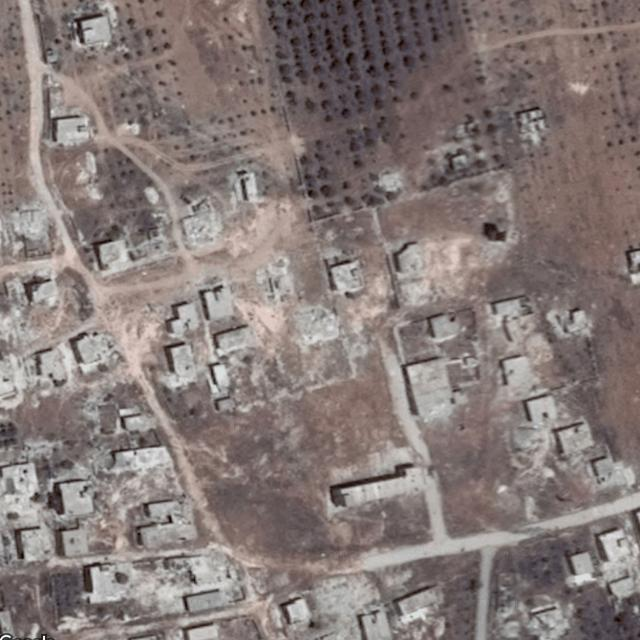damaged_building: (125, 555, 236, 609), (292, 575, 376, 640), (286, 303, 346, 345), (8, 197, 58, 245), (512, 426, 554, 477), (180, 210, 222, 248)
